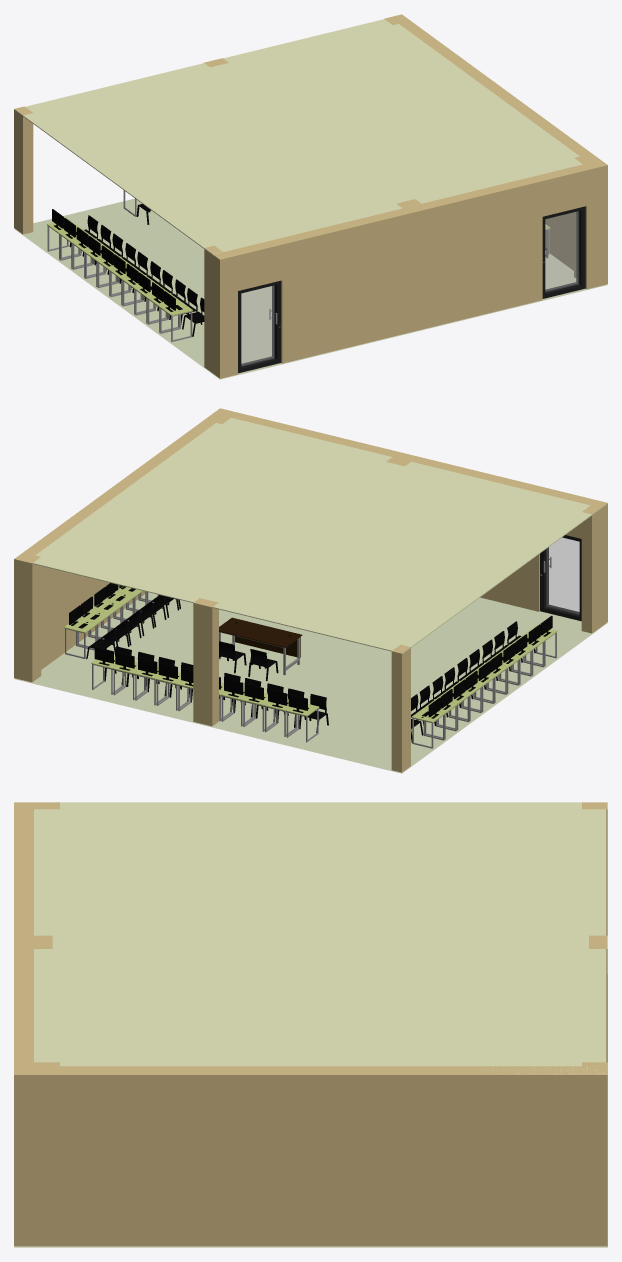
Rendered from CCIS_LabRm3_v1.glb.
The picture shows the model from 3 angles, top to bottom: view 1: azimuth 30°, elevation 25°; view 2: azimuth 150°, elevation 25°; view 3: azimuth 270°, elevation 25°; orthographic projection. The views are drawn at different scales.
Visible parts, largest first — view 1: LabRm2 Floor.009; view 2: LabRm2 Floor.009; view 3: LabRm2 Floor.009.
Boxes of the visible parts, box(x1,y1,x2,y2) form: LabRm2 Floor.009: box(14, 14, 607, 379); LabRm2 Floor.009: box(14, 408, 607, 773); LabRm2 Floor.009: box(14, 802, 607, 1247).
Size of the model in its own units: 4.5 by 1.33 by 4.14.
